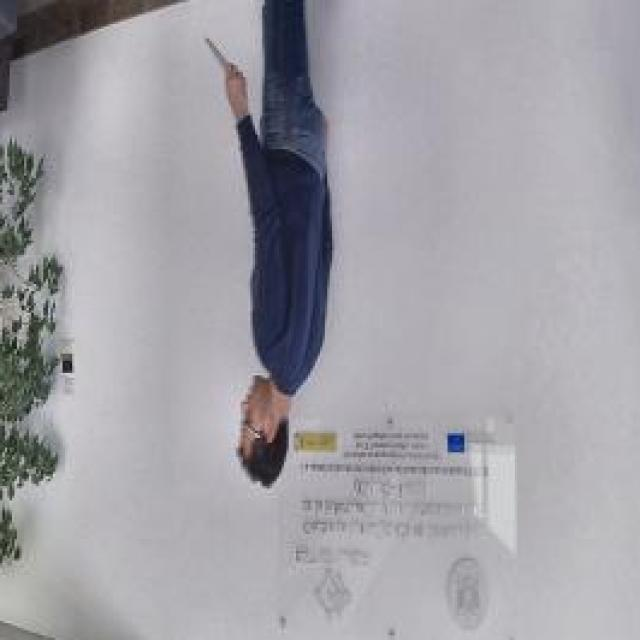knife: (200, 32, 242, 92)
